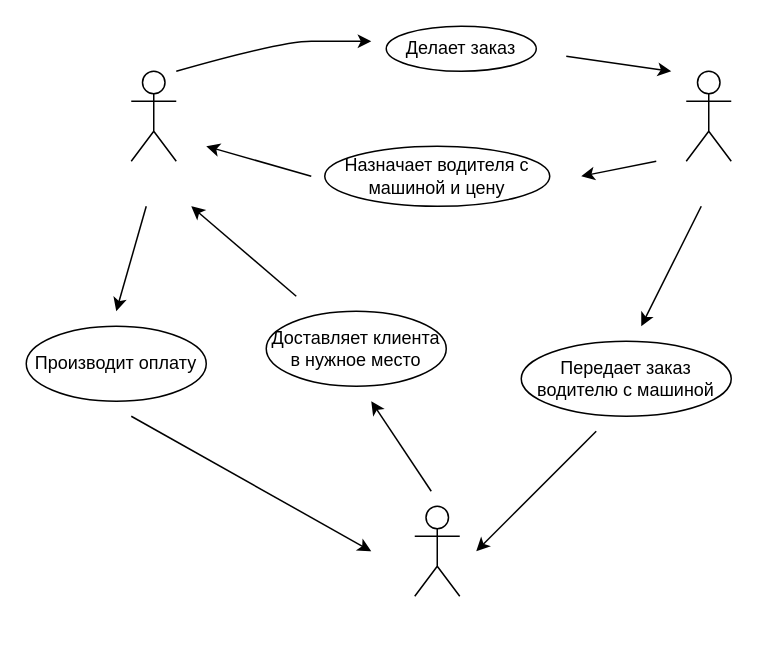
This 776x654 diagram has some shape labels left out. Each missing label, with the box of its shape:
Водитель с машиной: (413, 505, 460, 596)
Клиент: (130, 70, 176, 161)
Оператор: (685, 70, 731, 161)
